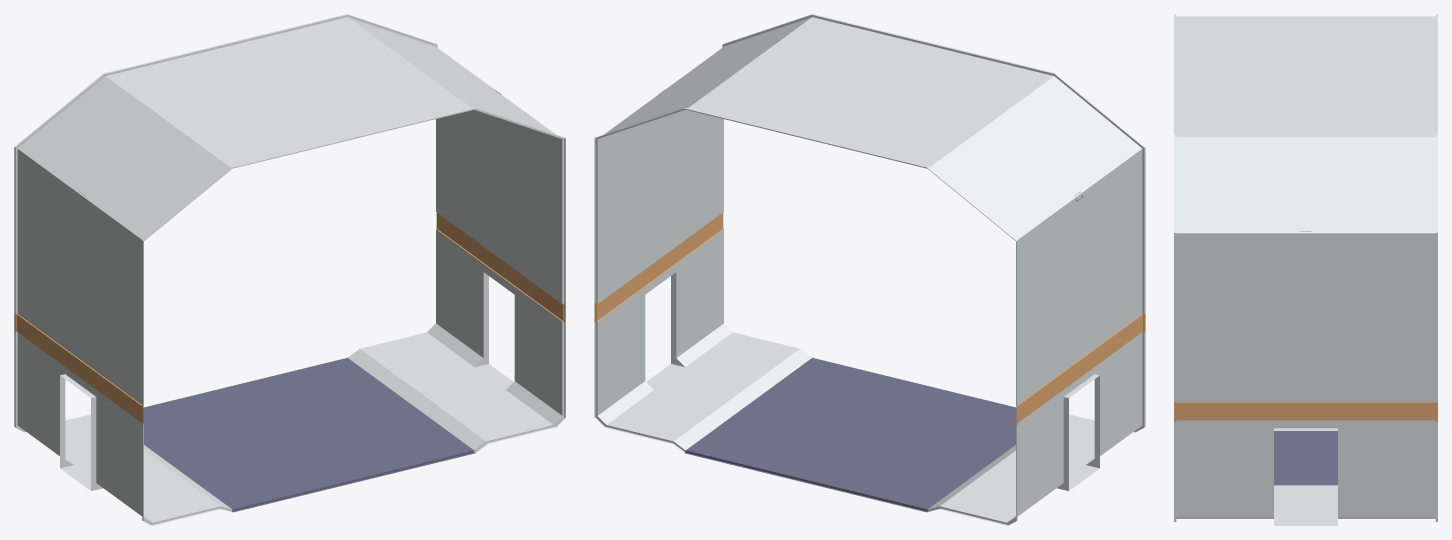
The model's file is HangarDoor2.fbx.
3 renders of one model, left to right at view 1: azimuth 30°, elevation 25°; view 2: azimuth 150°, elevation 25°; view 3: azimuth 270°, elevation 25°, orthographic. The views are drawn at different scales.
Visible parts, largest first — view 1: HangarDeur2; view 2: HangarDeur2; view 3: HangarDeur2.
Part boxes in pixels (left/top/right/bottom): HangarDeur2: left=14, top=14, right=565, bottom=525; HangarDeur2: left=594, top=14, right=1145, bottom=525; HangarDeur2: left=1174, top=14, right=1437, bottom=525.
Bounding box in the file's own units: 8.75 × 6.72 × 4.56.
